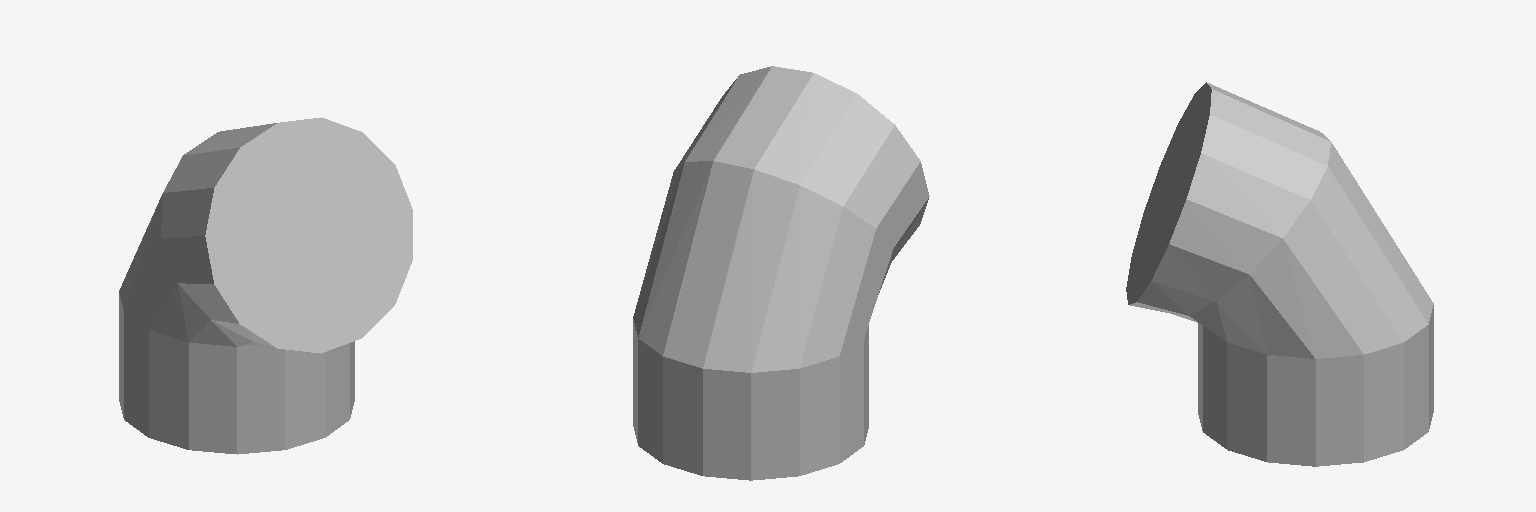
File: e_neck.obj
The picture shows the model from 3 angles: view 1: azimuth 30°, elevation 25°; view 2: azimuth 150°, elevation 25°; view 3: azimuth 270°, elevation 25°; orthographic projection.
Size of the model in its own units: 0.7623 by 1.15 by 0.9983.